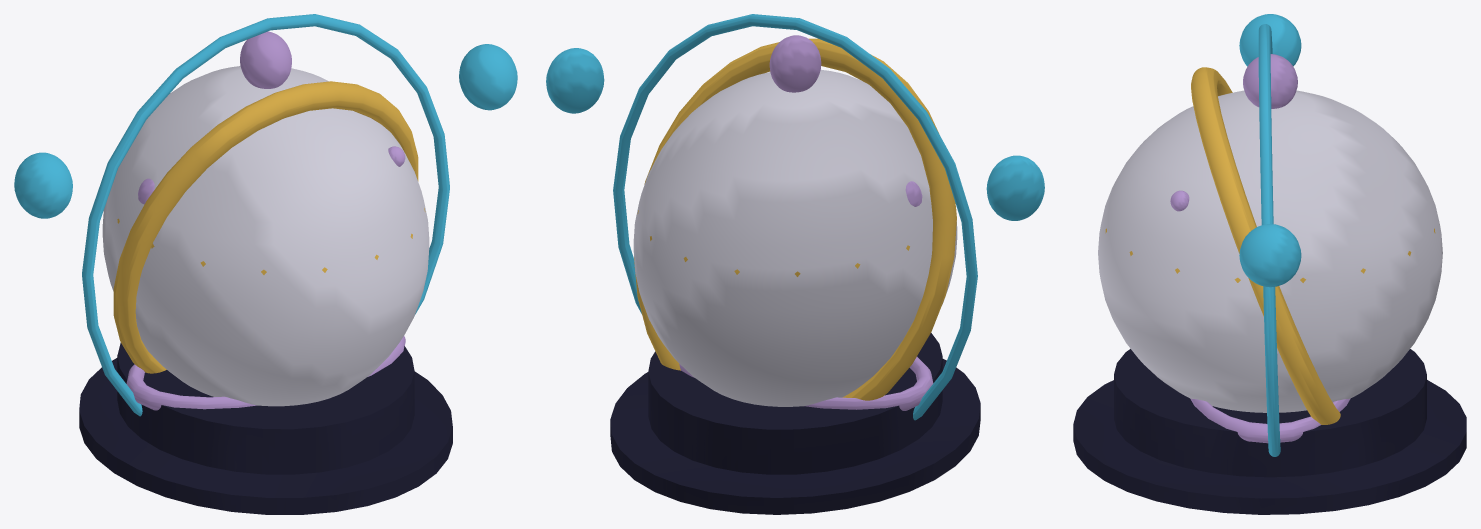
The model's file is 0041_天文图鉴_土星.glb.
The picture shows the model from 3 angles, left to right: view 1: azimuth 30°, elevation 25°; view 2: azimuth 150°, elevation 25°; view 3: azimuth 270°, elevation 25°; orthographic projection. The views are drawn at different scales.
Parts seen in each view (by area): view 1: card_0041; view 2: card_0041; view 3: card_0041.
Boxes of the visible parts, x1=… form: card_0041: x1=14, y1=14, x2=517, y2=514; card_0041: x1=546, y1=14, x2=1044, y2=514; card_0041: x1=1073, y1=14, x2=1466, y2=514.
Bounding box in the file's own units: 1.21 × 1 × 0.859.
